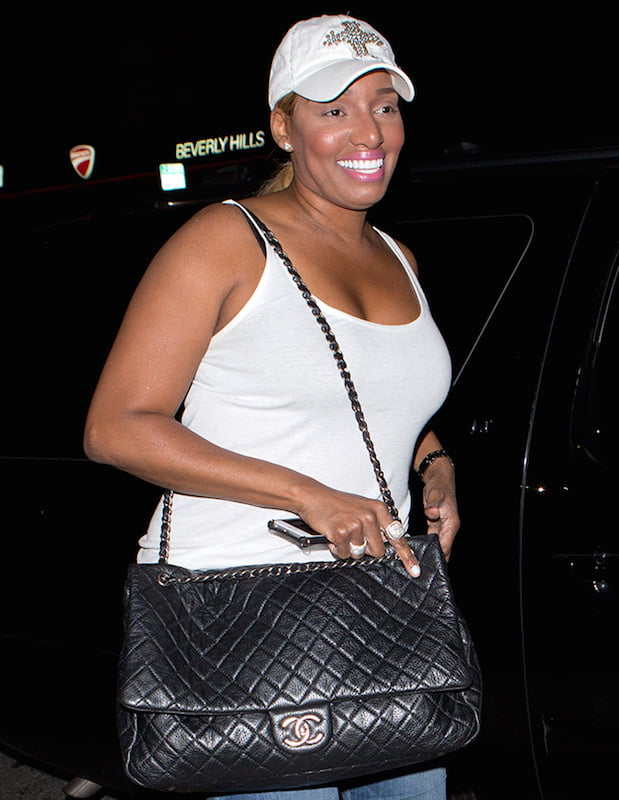channel: (115, 512, 482, 800), (200, 622, 415, 688), (270, 706, 333, 747)
